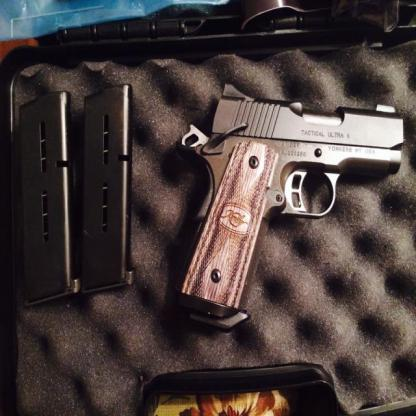weapon: (175, 84, 405, 330)
